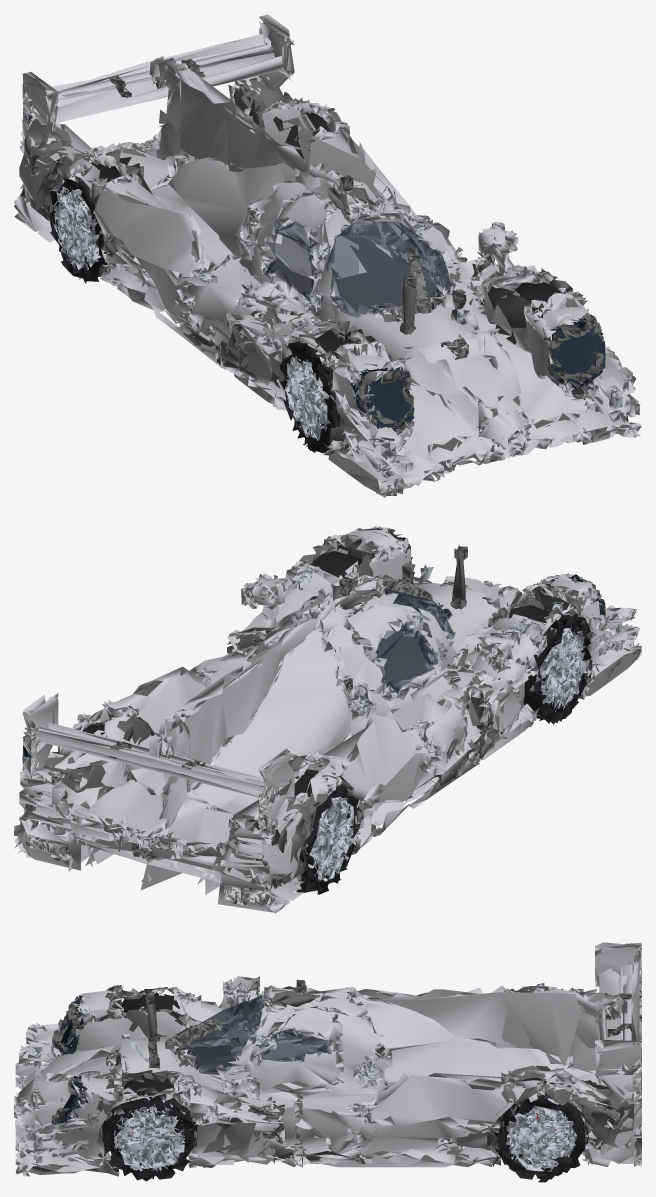
File: oreca-07-ao.obj
3 views of the same model, one above another, from view 1: azimuth 30°, elevation 25°; view 2: azimuth 150°, elevation 25°; view 3: azimuth 270°, elevation 25° (orthographic). The views are drawn at different scales.
Parts seen in each view (by area): view 1: BODY, GLASS, WHEEL_RF, WHEEL_RR; view 2: BODY, WHEEL_RF, WHEEL_RR, GLASS, WHEEL_LF; view 3: BODY, WHEEL_LF, WHEEL_LR, GLASS, WHEEL_RF.
Part boxes in pixels (left/top/right/bottom): BODY: left=14, top=14, right=641, bottom=497; GLASS: left=23, top=102, right=605, bottom=431; WHEEL_RF: left=280, top=329, right=360, bottom=453; WHEEL_RR: left=48, top=161, right=130, bottom=283; BODY: left=14, top=526, right=641, bottom=913; WHEEL_RF: left=498, top=603, right=591, bottom=724; WHEEL_RR: left=255, top=771, right=358, bottom=894; GLASS: left=23, top=526, right=604, bottom=905; WHEEL_LF: left=310, top=551, right=364, bottom=647; BODY: left=14, top=942, right=641, bottom=1176; WHEEL_LF: left=101, top=1075, right=197, bottom=1181; WHEEL_LR: left=494, top=1078, right=588, bottom=1182; GLASS: left=51, top=976, right=641, bottom=1124; WHEEL_RF: left=122, top=990, right=179, bottom=1013.
Size of the model in its own units: 1.61 by 1.04 by 3.94.
